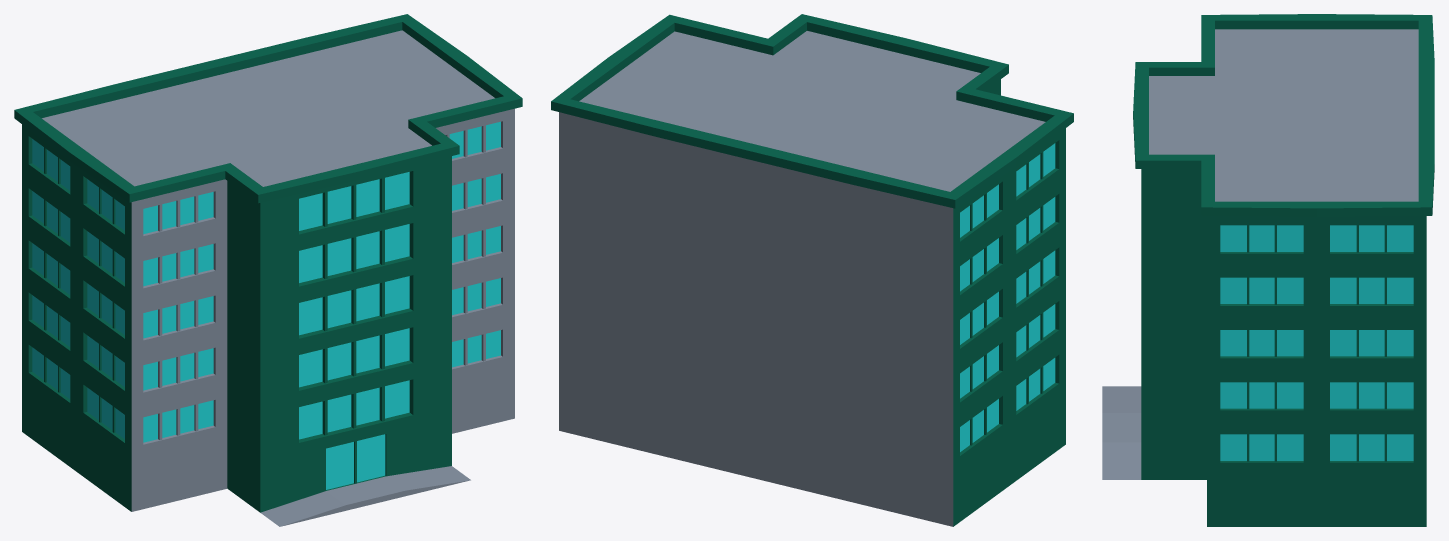
Rendered from Building1_3.fbx.
3 views of the same model, side by side, from view 1: azimuth 30°, elevation 25°; view 2: azimuth 150°, elevation 25°; view 3: azimuth 270°, elevation 25° (orthographic). The views are drawn at different scales.
Parts seen in each view (by area): view 1: Building1_3; view 2: Building1_3; view 3: Building1_3.
Part boxes in pixels (bbox=[...]): Building1_3: bbox=[14, 14, 522, 526]; Building1_3: bbox=[551, 14, 1073, 526]; Building1_3: bbox=[1102, 14, 1434, 526].
Size of the model in its own units: 3202 by 2473 by 2315.
